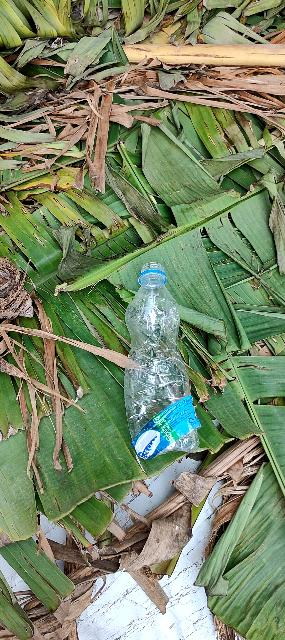bottle: (125, 263, 188, 449)
